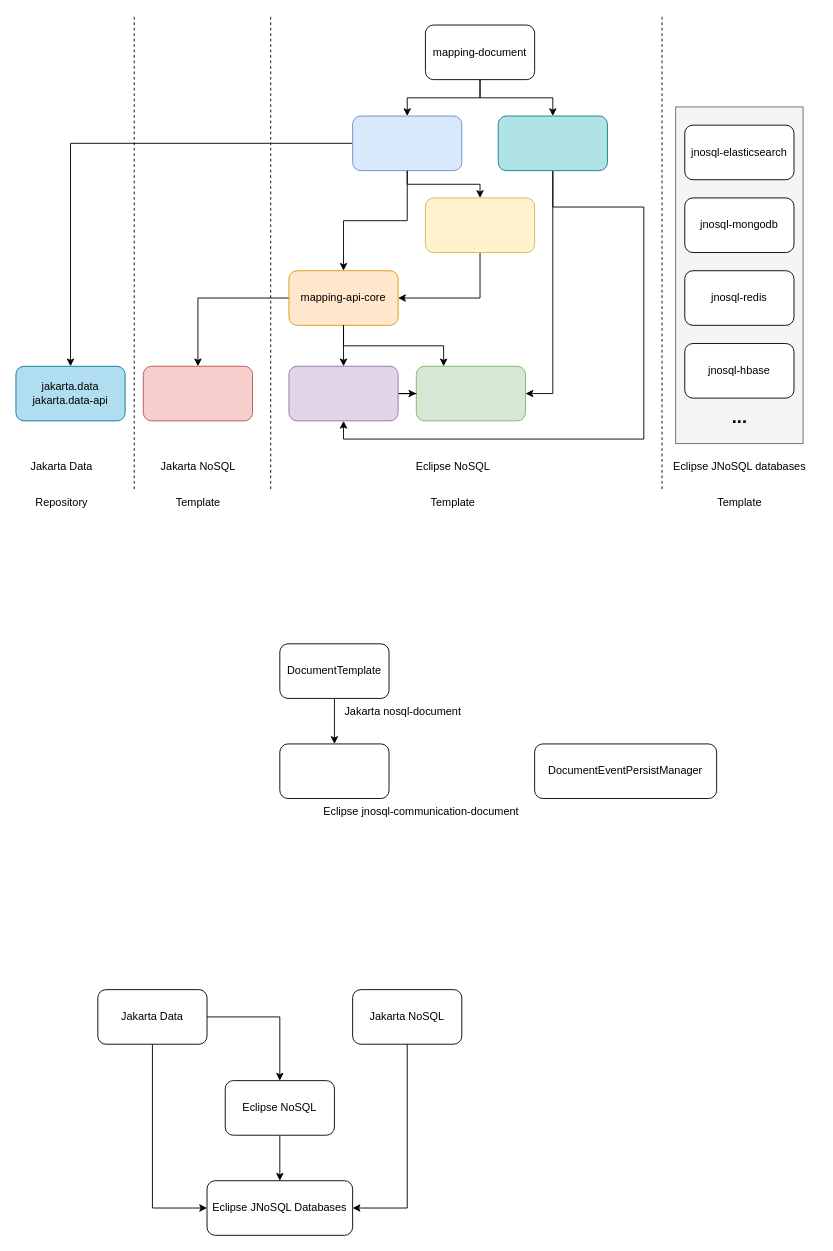
Image size: 833x1251. Some labels were removed from this diagram. The shapes that lost their labels are listed below. From the top down, each one's box as (x1, y1, x2, y2) in pixels, then its label:
(352, 115, 462, 171): mapping-core
(497, 115, 607, 171): communication-document
(425, 197, 535, 253): mapping-reflection
(142, 365, 253, 421): jakarta.nosql nosql-core
(288, 365, 398, 421): communication-query
(415, 365, 526, 421): communication-core
(279, 743, 389, 799): DocumentManager
